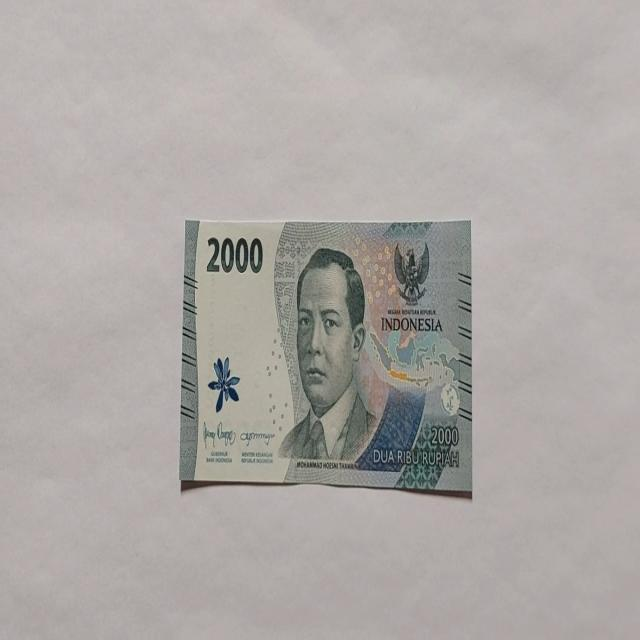dua ribu rupiah: (180, 216, 472, 494), (276, 246, 379, 466)
